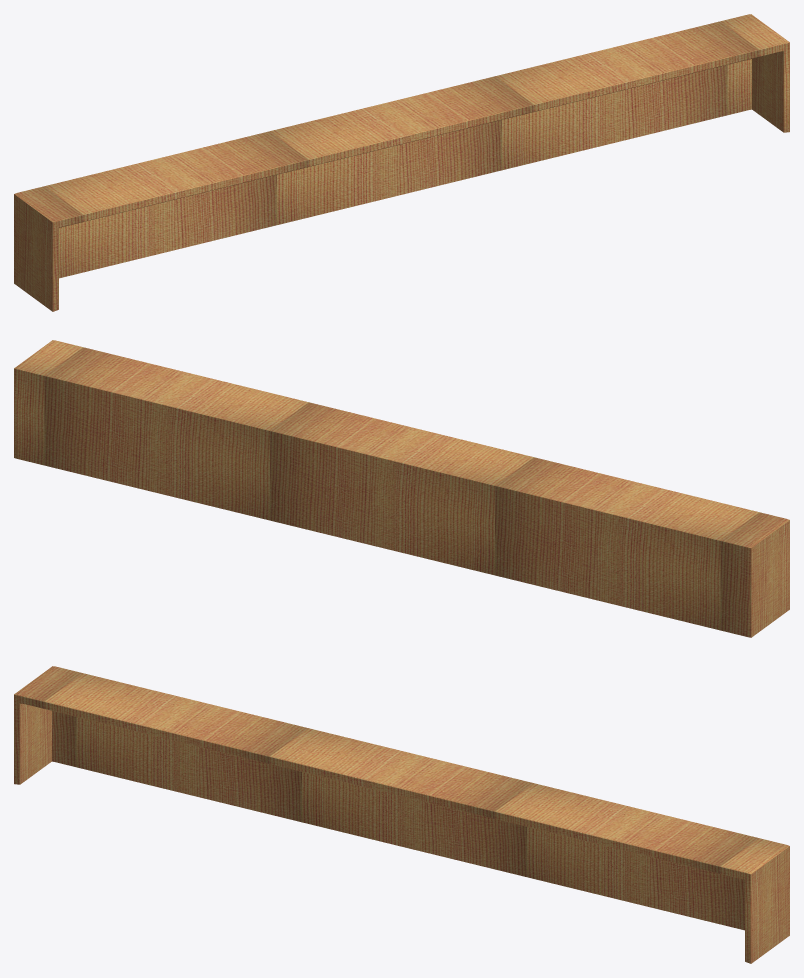
The model's file is LARGE_TABLE_03.fbx.
3 renders of one model, top to bottom at view 1: azimuth 30°, elevation 25°; view 2: azimuth 150°, elevation 25°; view 3: azimuth 330°, elevation 25°, orthographic.
Parts seen in each view (by area): view 1: LARGE_TABLE_03; view 2: LARGE_TABLE_03; view 3: LARGE_TABLE_03.
Part boxes in pixels (left/top/right/bottom): LARGE_TABLE_03: left=14, top=14, right=789, bottom=311; LARGE_TABLE_03: left=14, top=340, right=789, bottom=637; LARGE_TABLE_03: left=14, top=666, right=789, bottom=963.
Size of the model in its own units: 849 by 98.95 by 77.82.
